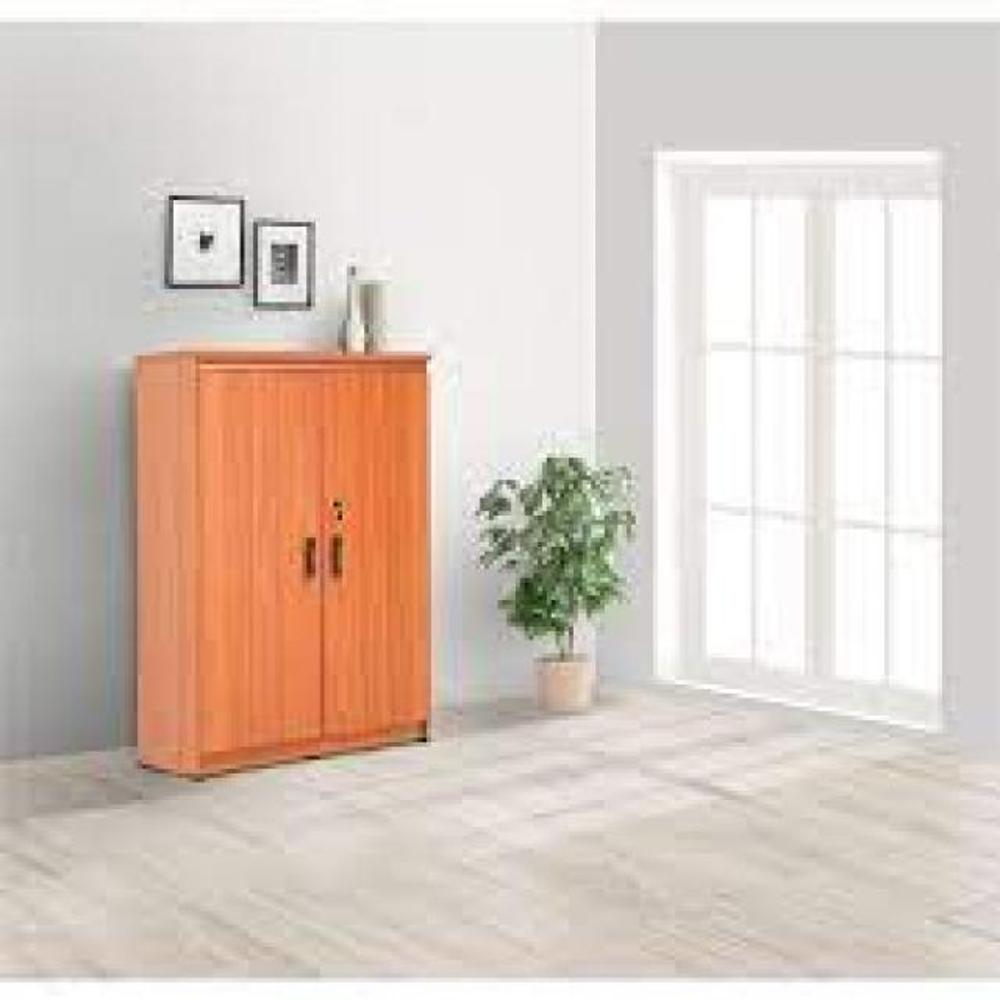cabinet: (104, 338, 457, 790)
